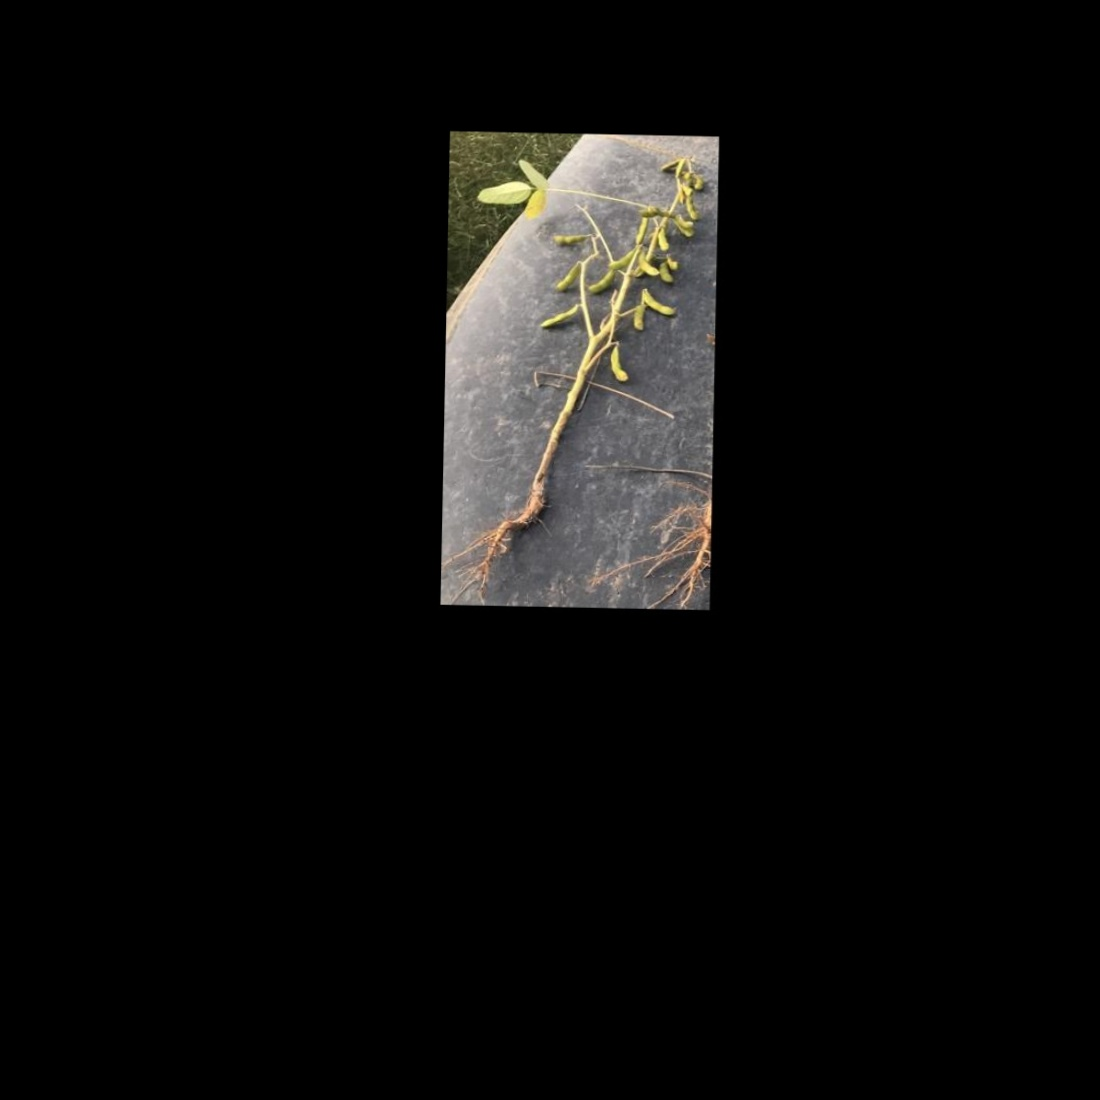pod: (607, 339, 637, 384), (550, 256, 581, 295), (538, 300, 580, 327), (643, 288, 678, 317), (545, 227, 593, 248), (584, 267, 617, 296), (602, 244, 639, 269), (630, 215, 650, 248), (655, 226, 674, 254), (630, 304, 646, 334), (686, 198, 704, 222)
soy: (465, 140, 707, 574)
